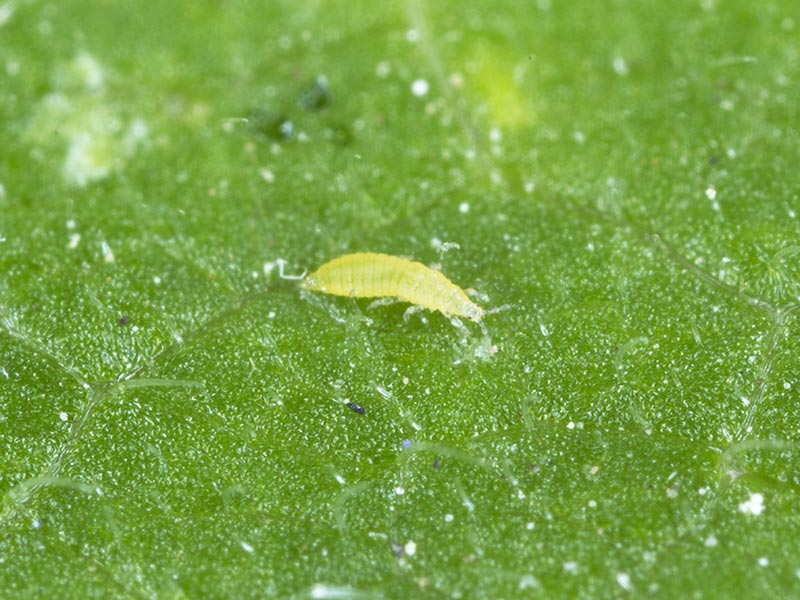Thrips: (300, 252, 494, 338)
